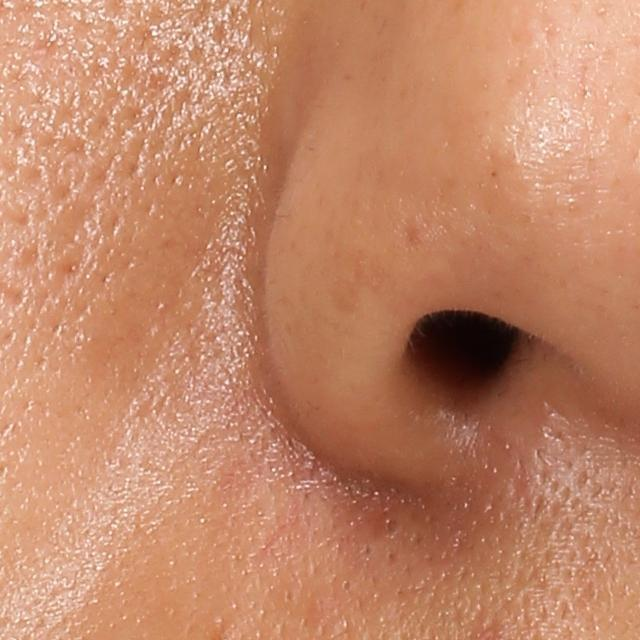comedo: (379, 515, 404, 539)
